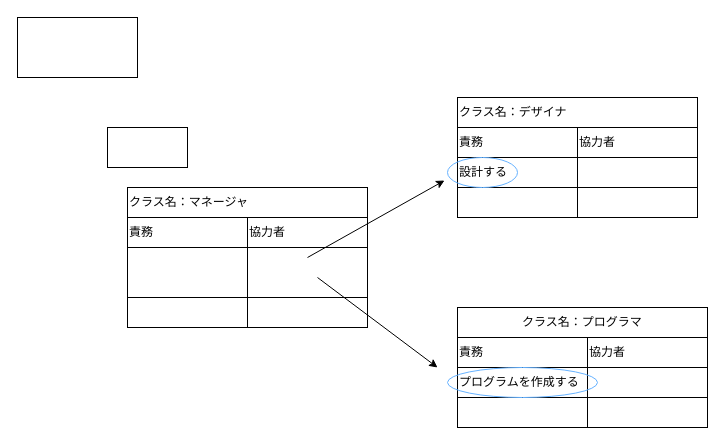
The diagram is 725 pixels wide and 445 high, and some of its shapes have lost their labels. The centre of each missing label's shape, as x and y in pixels:
CRCカード: (x=147, y=147)
lesson6-1: (x=77, y=47)
デザイナ プログラマ: (x=307, y=272)
開発する: (x=187, y=272)
